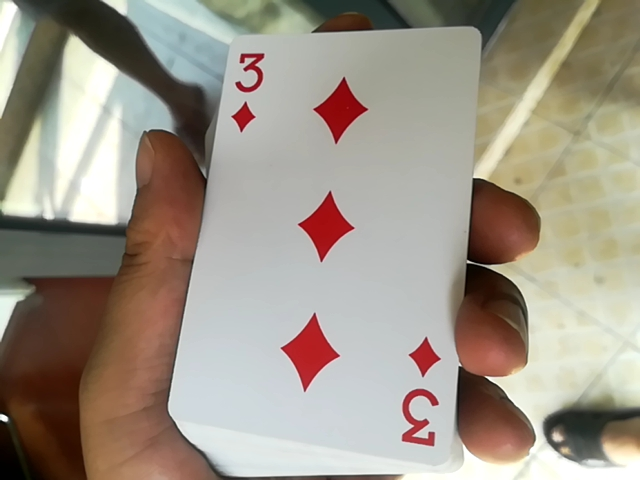fk 3: (170, 27, 462, 464)
